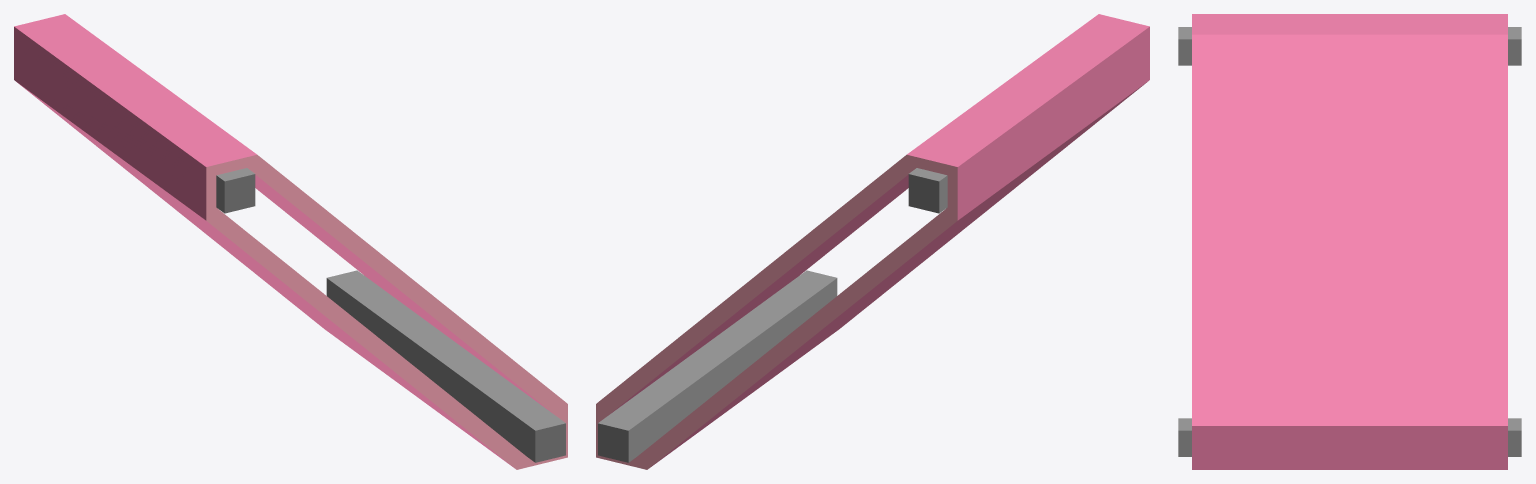
File: trampoline.fbx
3 renders of one model, left to right at view 1: azimuth 30°, elevation 25°; view 2: azimuth 150°, elevation 25°; view 3: azimuth 270°, elevation 25°, orthographic. The views are drawn at different scales.
Parts seen in each view (by area): view 1: trampoline_trigger, trampoline_frame; view 2: trampoline_trigger, trampoline_frame; view 3: trampoline_trigger, trampoline_frame.
Boxes of the visible parts, <box> form: trampoline_trigger: <box>14,14,567,469</box>; trampoline_frame: <box>216,168,565,462</box>; trampoline_trigger: <box>596,14,1149,469</box>; trampoline_frame: <box>598,168,947,462</box>; trampoline_trigger: <box>1192,14,1507,469</box>; trampoline_frame: <box>1178,27,1521,456</box>.
Bounding box in the file's own units: 500 × 500 × 500.
